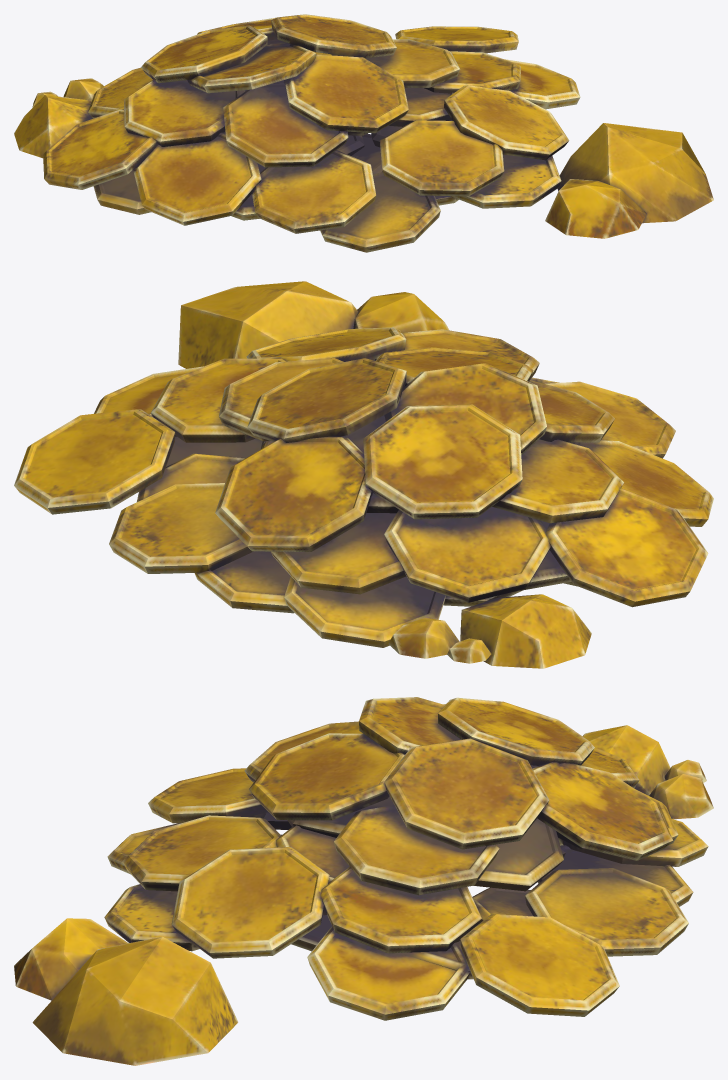
Rendered from gold coin pile.glb.
3 renders of one model, top to bottom at view 1: azimuth 30°, elevation 25°; view 2: azimuth 150°, elevation 25°; view 3: azimuth 270°, elevation 25°, orthographic. The views are drawn at different scales.
Parts seen in each view (by area): view 1: SM_gold_coin_pile; view 2: SM_gold_coin_pile; view 3: SM_gold_coin_pile.
Boxes of the visible parts, <box> form: SM_gold_coin_pile: <box>14,14,713,252</box>; SM_gold_coin_pile: <box>14,281,713,668</box>; SM_gold_coin_pile: <box>14,697,713,1065</box>.
Bounding box in the file's own units: 62.6 × 13.7 × 57.39.
1 material, 1 textured.
